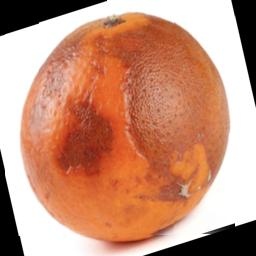Orange Rotten: (5, 0, 235, 236)
